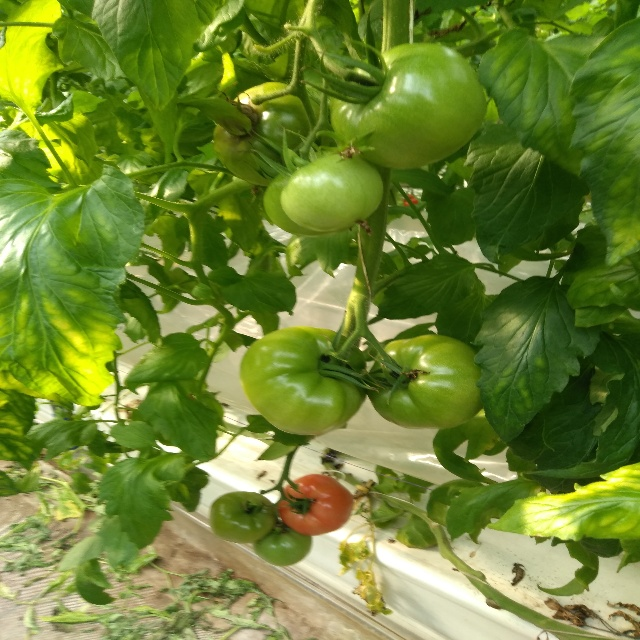b_green: (329, 42, 487, 170), (239, 326, 368, 436), (213, 82, 331, 187), (364, 334, 486, 430), (281, 149, 385, 232), (262, 154, 337, 237), (210, 491, 278, 544), (254, 520, 312, 567)
b_half_ripened: (277, 474, 354, 536)
